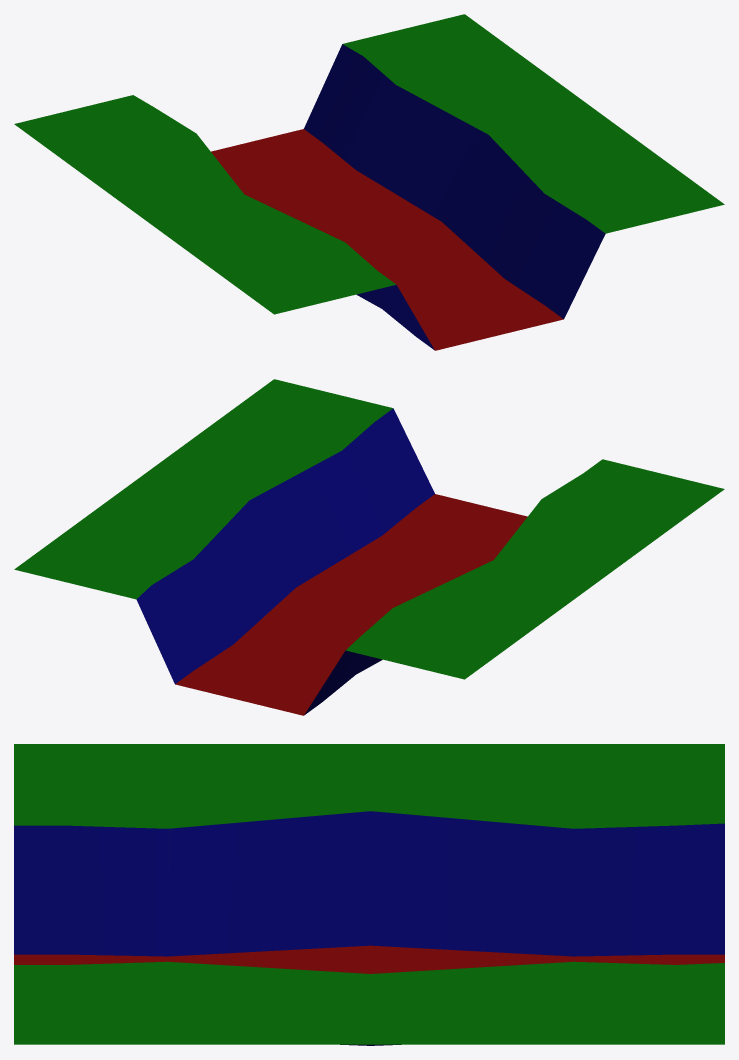
The model's file is StraightRoad_v2.fbx.
The picture shows the model from 3 angles, top to bottom: view 1: azimuth 30°, elevation 25°; view 2: azimuth 150°, elevation 25°; view 3: azimuth 270°, elevation 25°; orthographic projection. The views are drawn at different scales.
Parts seen in each view (by area): view 1: StraightRoad1; view 2: StraightRoad1; view 3: StraightRoad1.
Boxes of the visible parts, x1,y1,x2,y2 form: StraightRoad1: (14, 14, 724, 350); StraightRoad1: (14, 379, 724, 715); StraightRoad1: (14, 744, 724, 1045).
Size of the model in its own units: 7 by 1.12 by 7.
